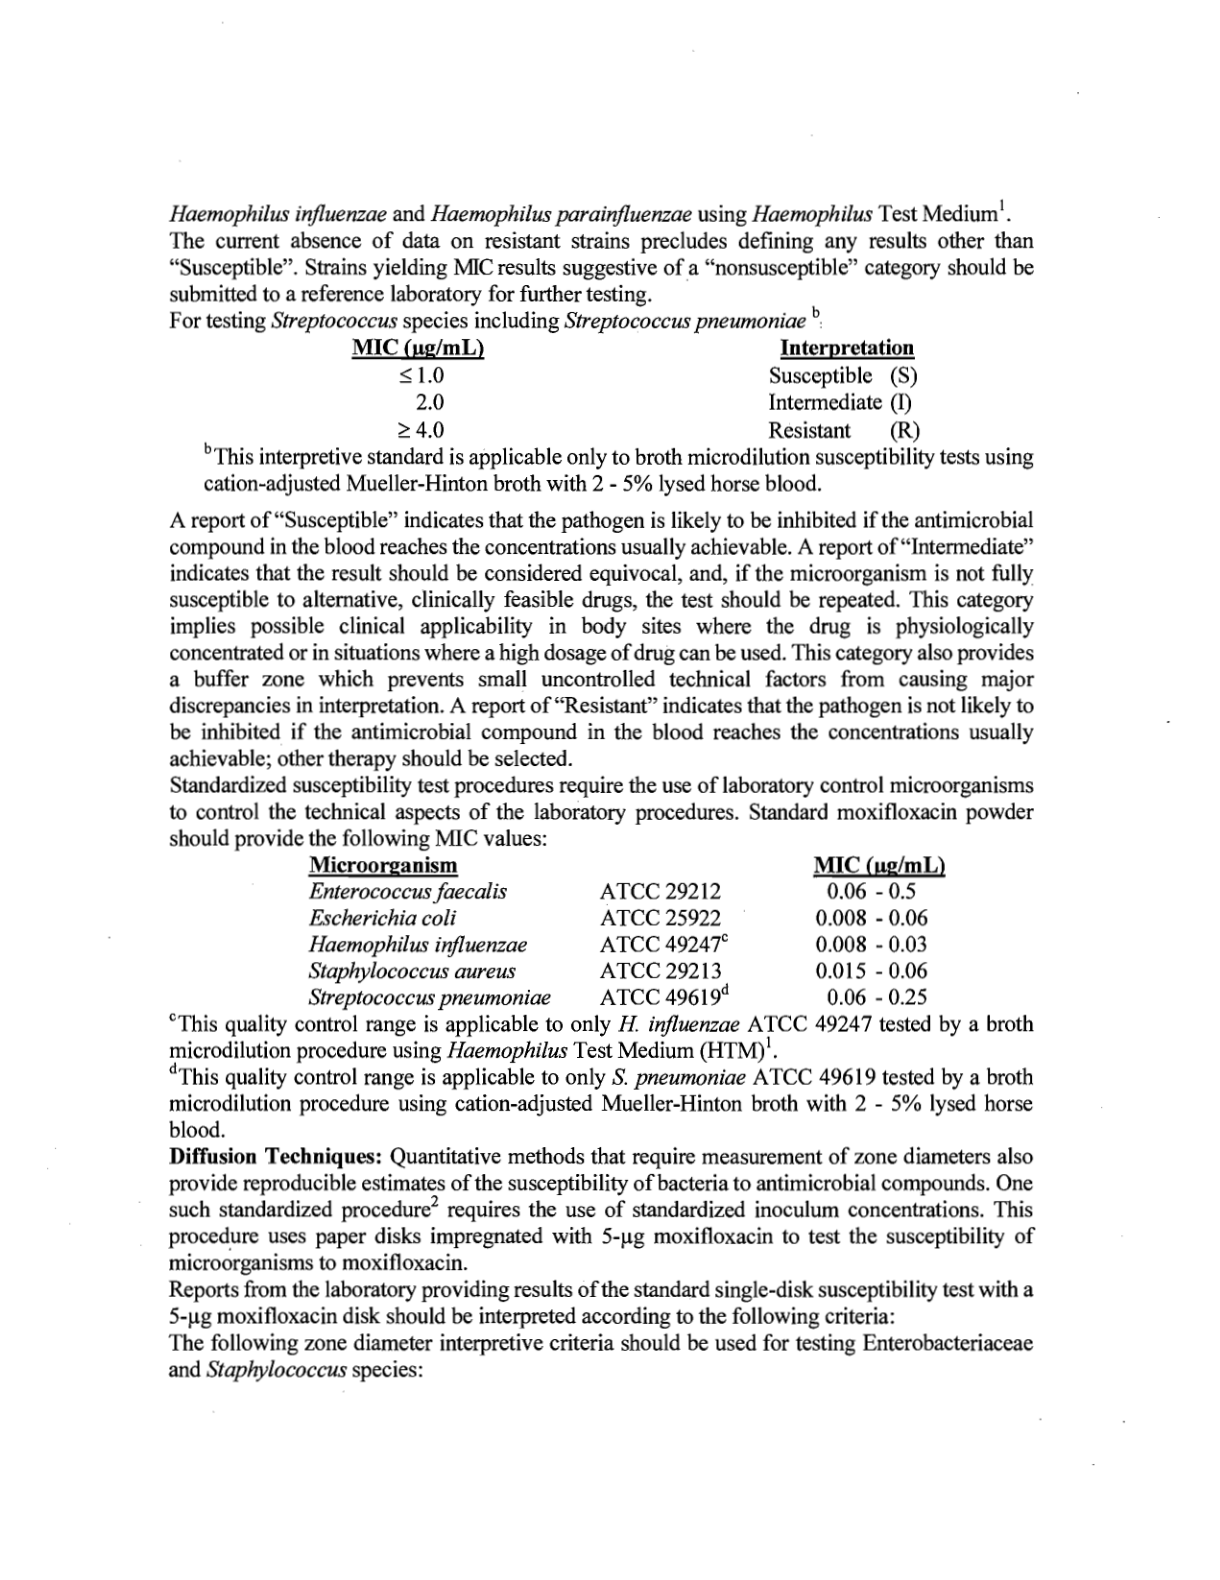nolines: (306, 852, 950, 1011), (349, 334, 924, 443)
